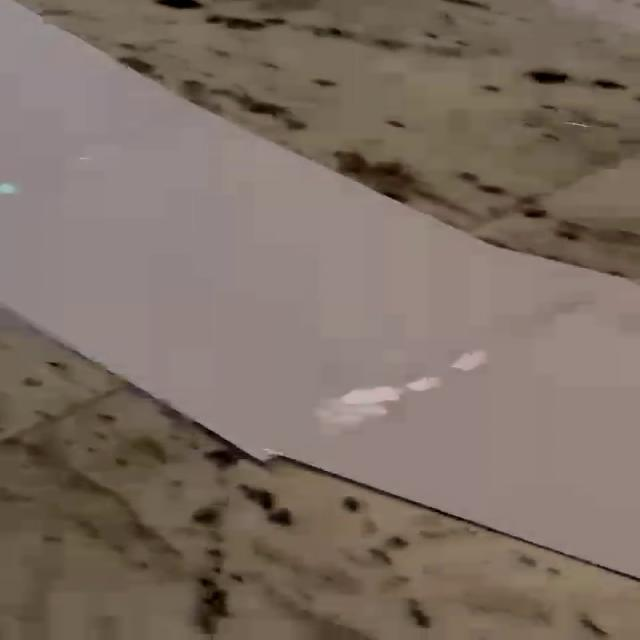road: (0, 0, 637, 576)
